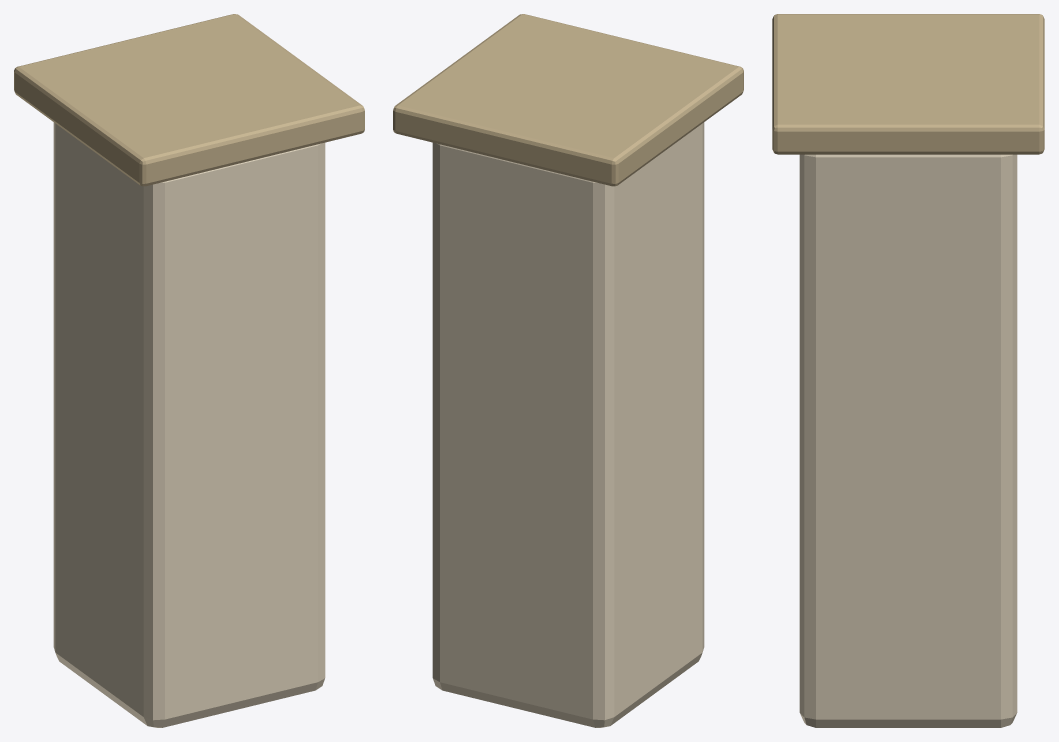
The model's file is Parkour_Pillar.fbx.
3 views of the same model, side by side, from view 1: azimuth 30°, elevation 25°; view 2: azimuth 150°, elevation 25°; view 3: azimuth 270°, elevation 25° (orthographic). The views are drawn at different scales.
Visible parts, largest first — view 1: Pillar; view 2: Pillar; view 3: Pillar.
Boxes of the visible parts, x1,y1,x2,y2 form: Pillar: (14,14,364,727); Pillar: (393,14,743,727); Pillar: (772,14,1044,727).
Size of the model in its own units: 1 by 2.51 by 1.
